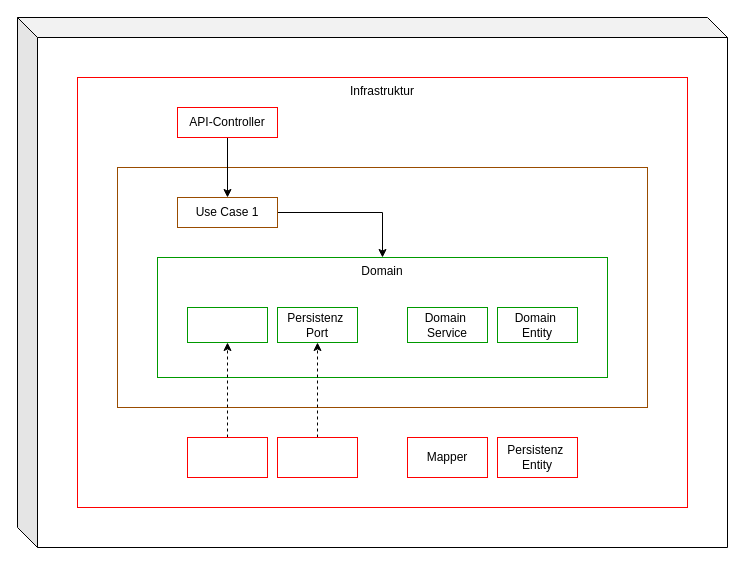
The diagram is 745 pixels wide and 565 high, and some of its shapes have lost their labels. Each missing label, with the box of its shape:
Client Adapter: (186, 436, 268, 478)
Client Port: (186, 306, 268, 342)
Persistenz Adapter: (276, 436, 358, 478)
Use Cases: (116, 166, 648, 408)
